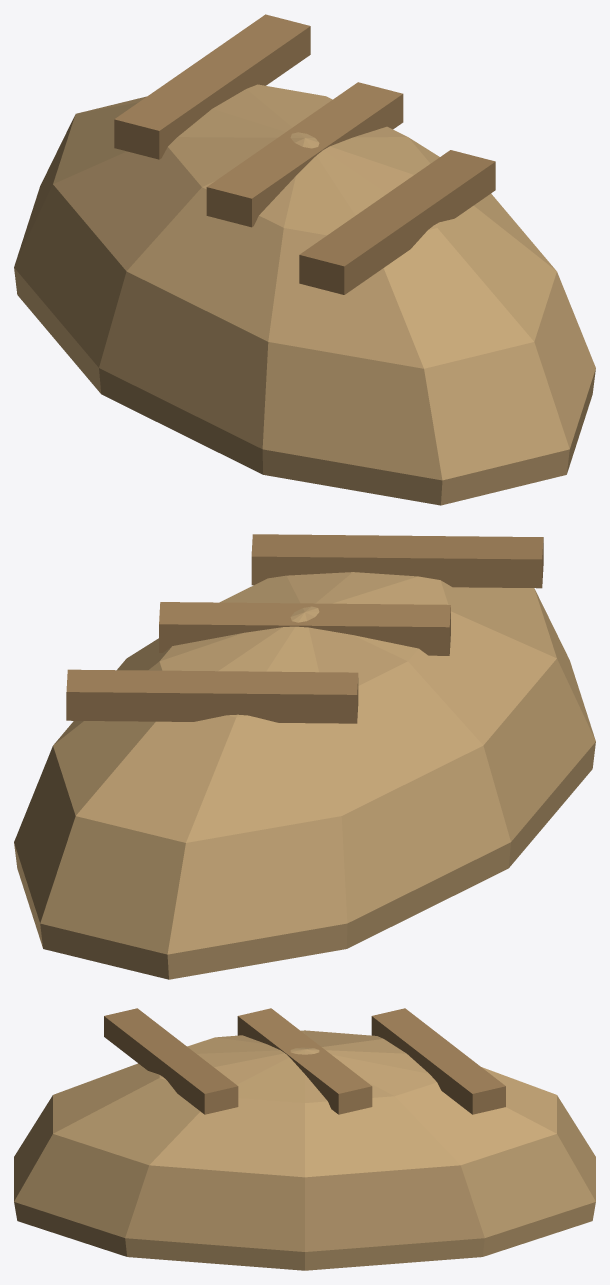
Rendered from bread_loaf.glb.
The picture shows the model from 3 angles, top to bottom: view 1: azimuth 30°, elevation 25°; view 2: azimuth 150°, elevation 25°; view 3: azimuth 270°, elevation 25°; orthographic projection. The views are drawn at different scales.
Visible parts, largest first — view 1: bread_loaf; view 2: bread_loaf; view 3: bread_loaf.
Part boxes in pixels (x1=…): bread_loaf: x1=14, y1=14, x2=595, y2=505; bread_loaf: x1=14, y1=534, x2=595, y2=979; bread_loaf: x1=14, y1=1008, x2=595, y2=1270.
Size of the model in its own units: 0.18 by 0.0862 by 0.3043.
